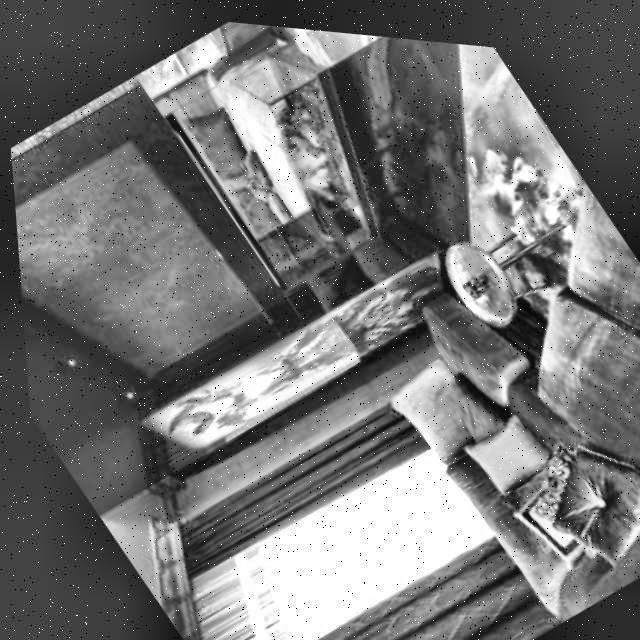Fire: (259, 101, 364, 208)
